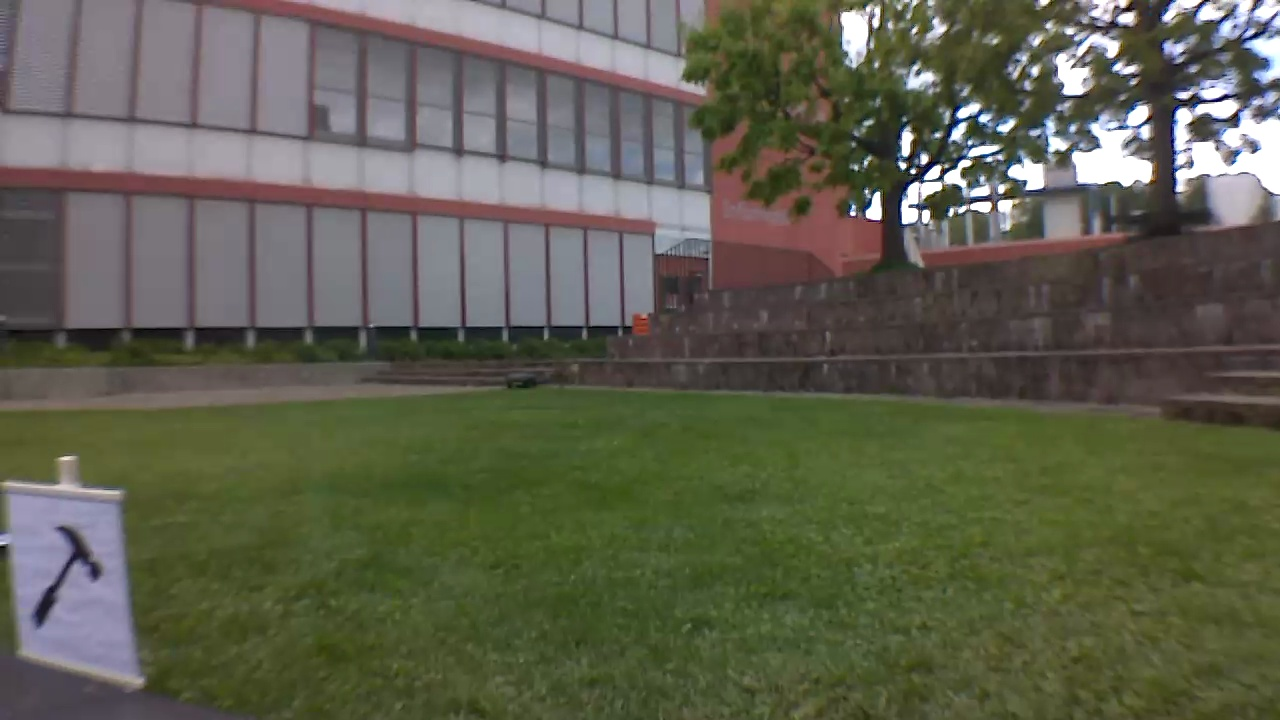hammer: (20, 512, 116, 647)
